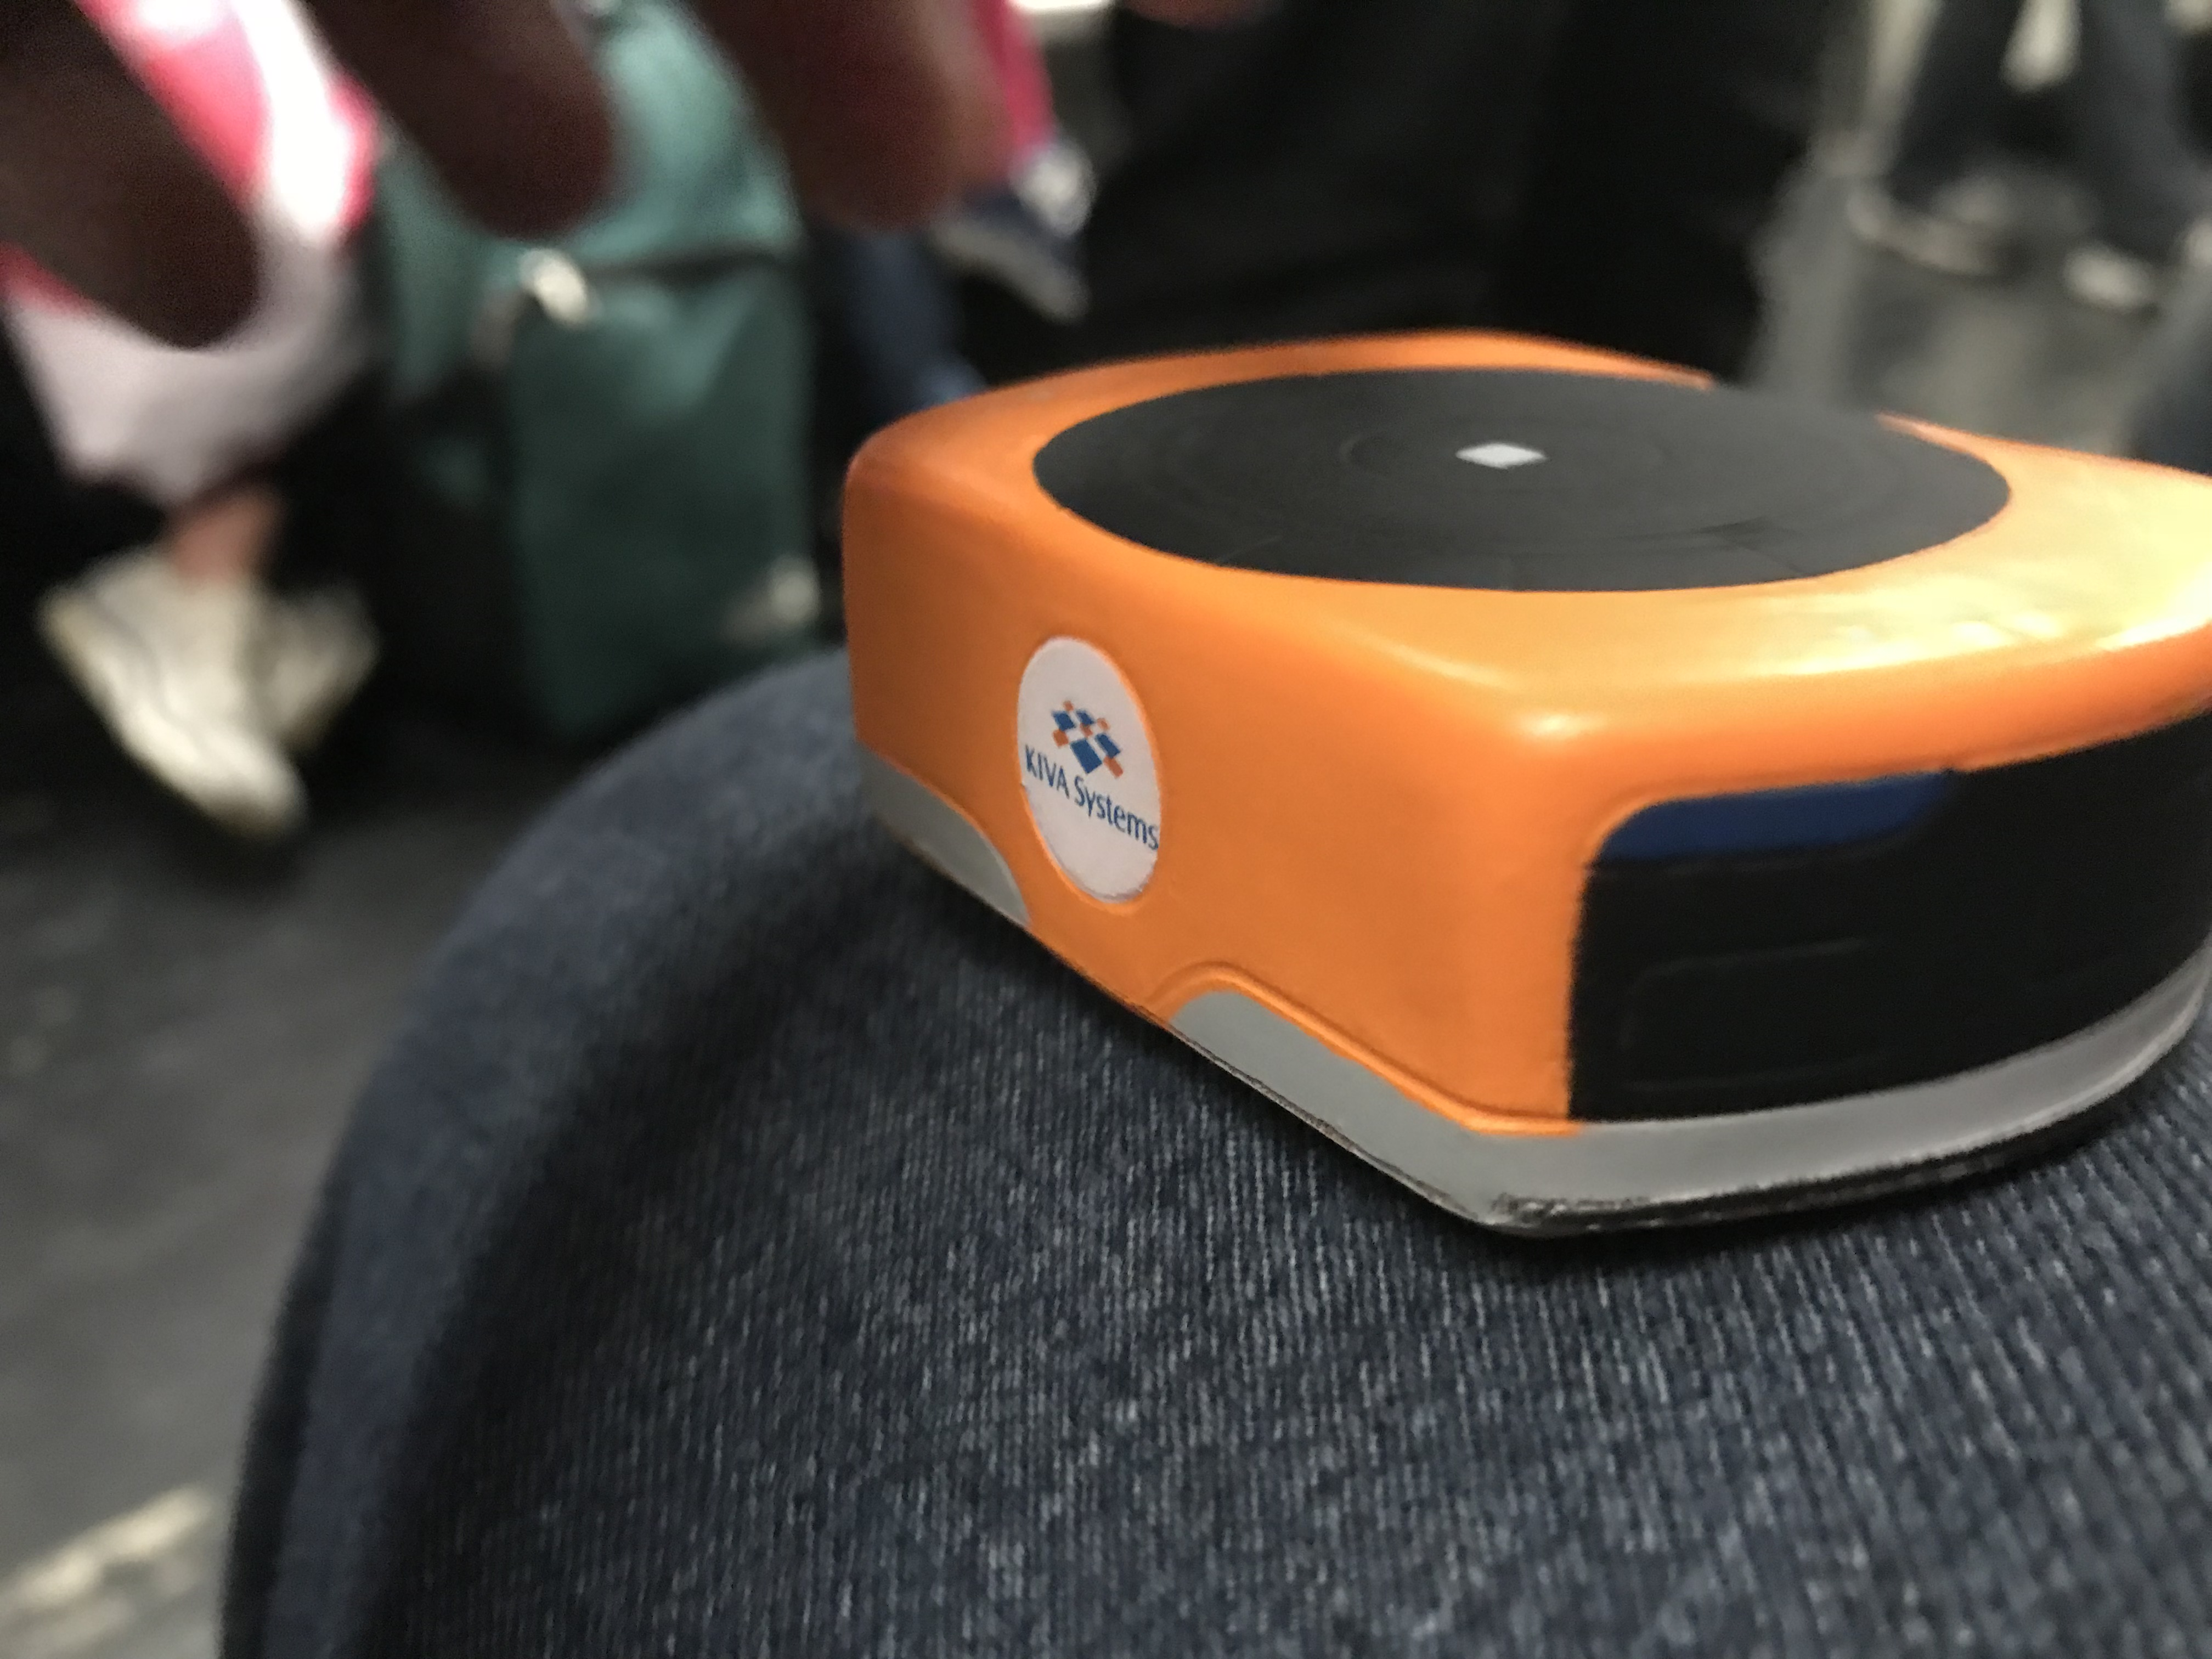amazon_bot: (819, 286, 2212, 1331)
